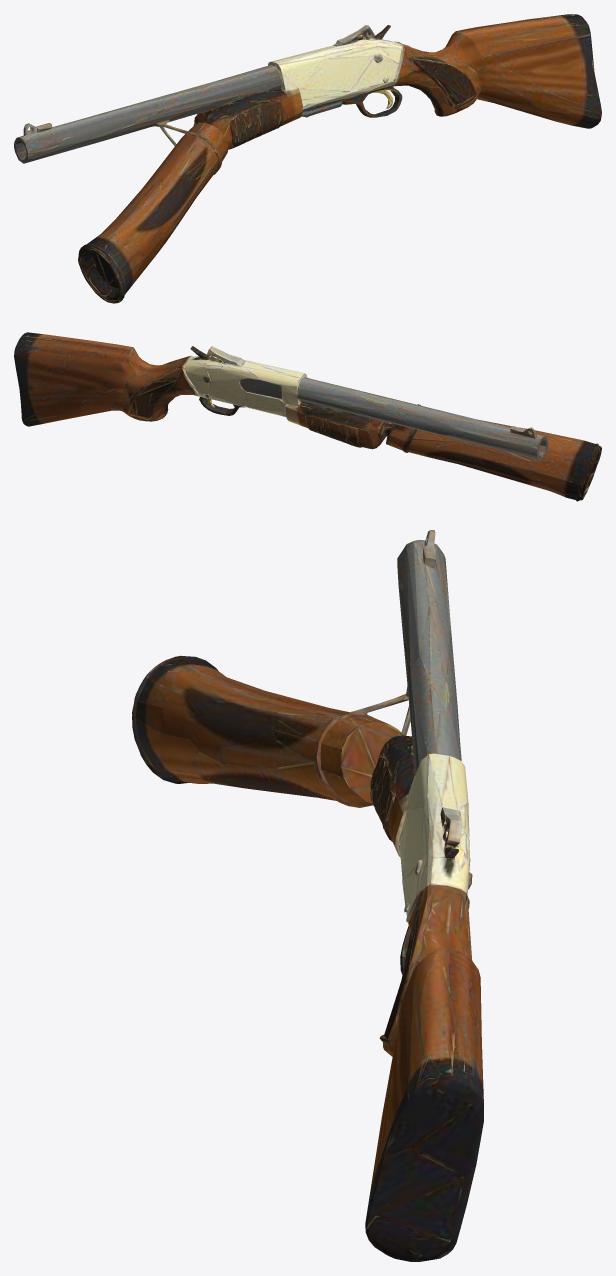
The model's file is shotgun.glb.
3 renders of one model, top to bottom at view 1: azimuth 30°, elevation 25°; view 2: azimuth 150°, elevation 25°; view 3: azimuth 270°, elevation 25°, orthographic. The views are drawn at different scales.
Bounding box in the file's own units: 1.9 × 0.4583 × 0.5615.
1 material, 1 textured.
